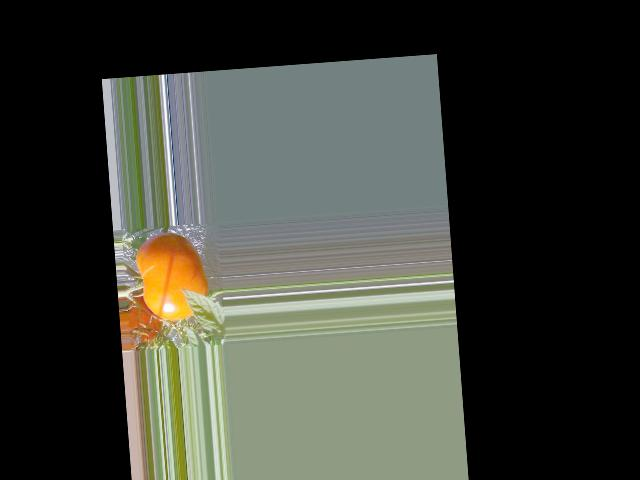tomato: (134, 230, 210, 323)
